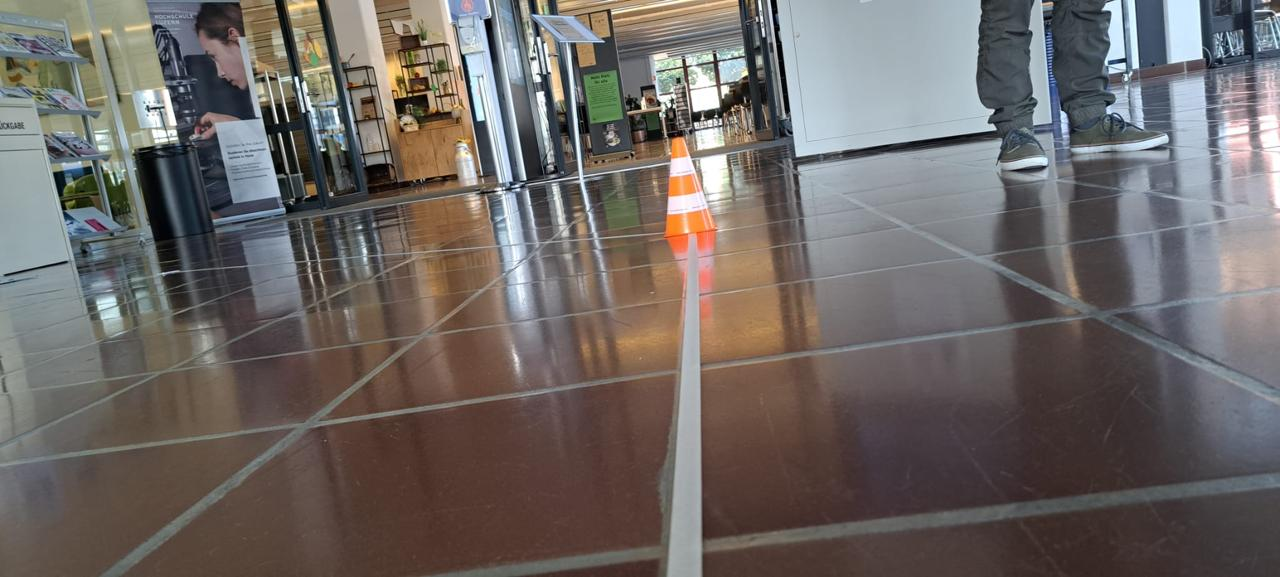line: (570, 97, 747, 368), (667, 229, 701, 573)
pylons: (665, 135, 720, 234)
